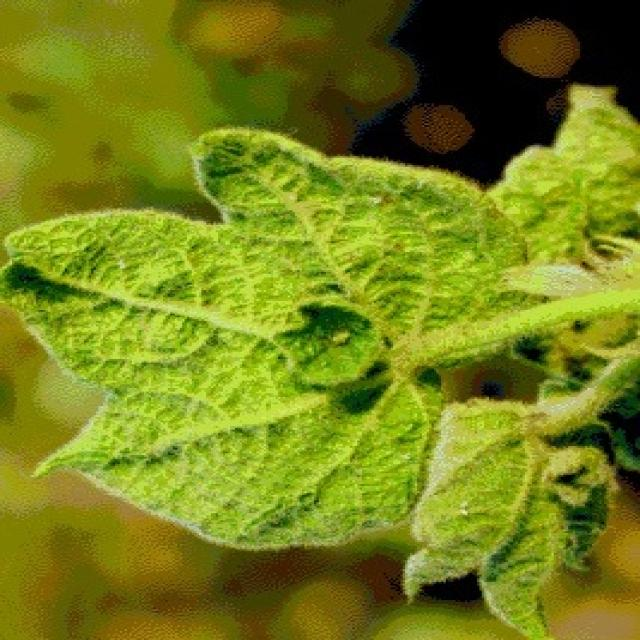Leaf Curl Virus: (43, 220, 640, 534)
